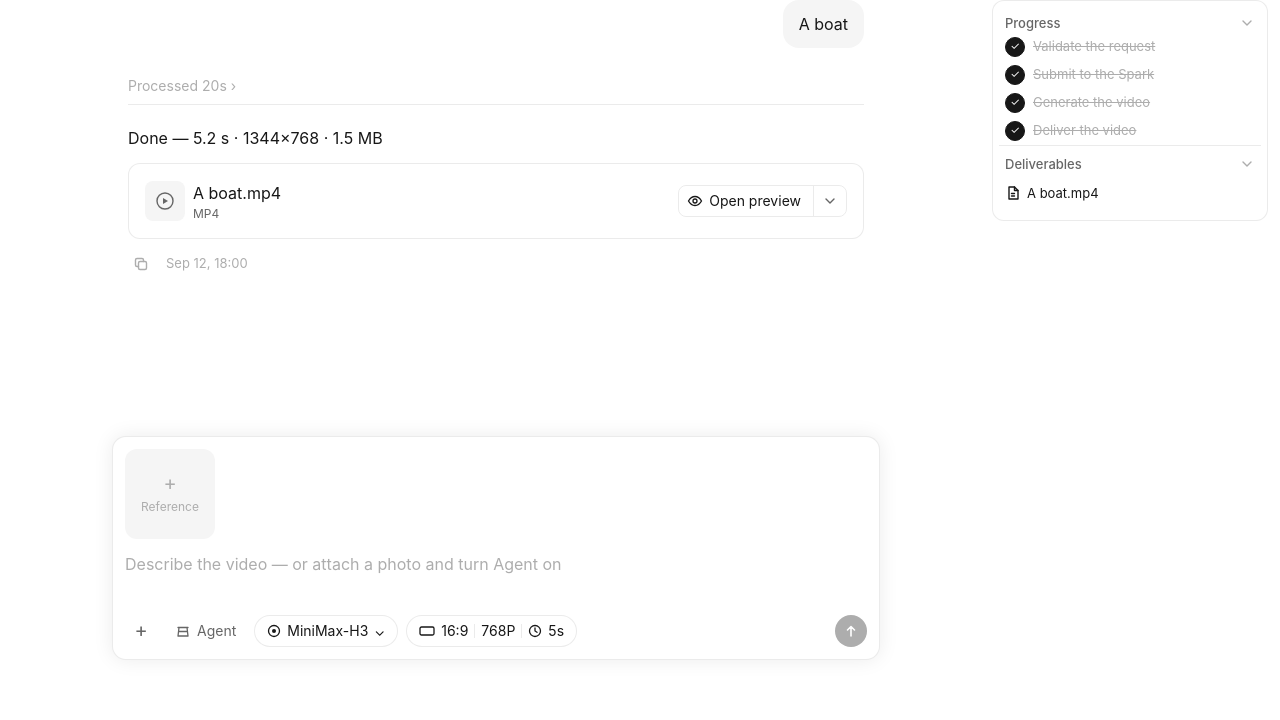
Test case: TaskPage — the reference's task page (STORY_023) › the Processed row shows the seconds the job took and unfolds the steps
The image size is (1280, 720).
expect the text "Validate the request" is shown once: met, box [1033,38,1155,54]
Click the button "Processed 20s ›": (182, 86) [128,72,236,100]
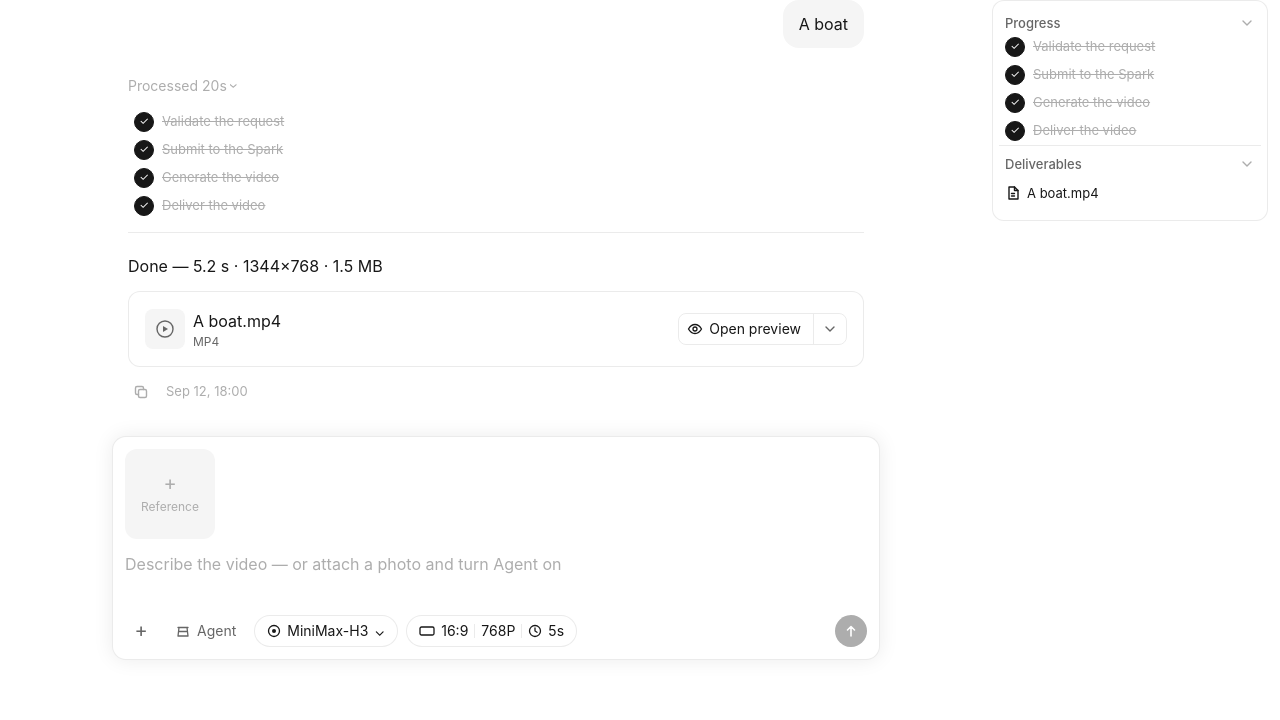
expect the text "Validate the request" is shown 2 times: met, box [162,113,284,129]; [1033,38,1155,54]
